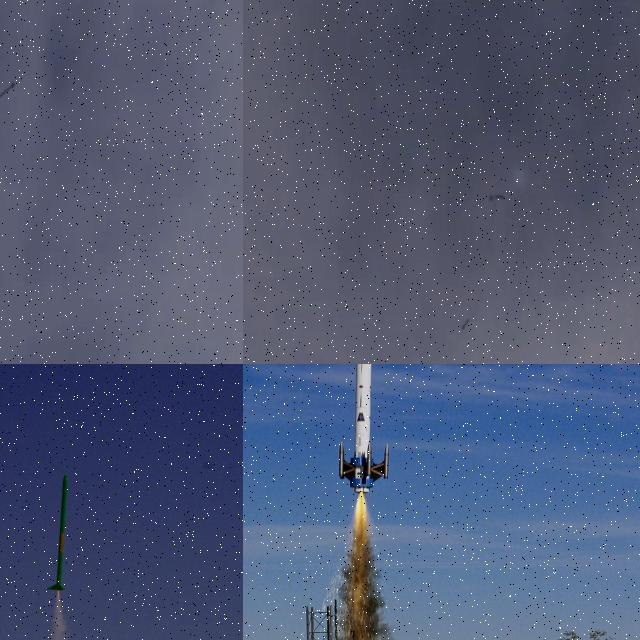Rocket: (339, 364, 389, 495), (47, 472, 69, 591), (0, 80, 15, 100), (462, 318, 469, 330)
